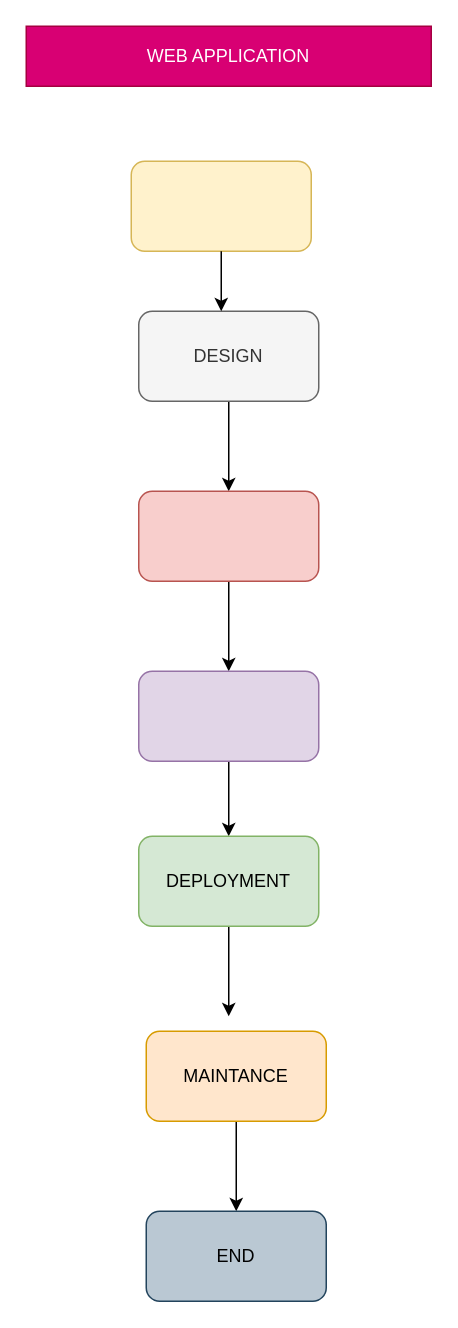
Image size: 458x1328. Some labels were removed from this diagram. Each missing label, with the centre of its shape:
DEVELOPMENT: (x=228, y=535)
PLANNING: (x=220, y=205)
TESTING: (x=228, y=715)
